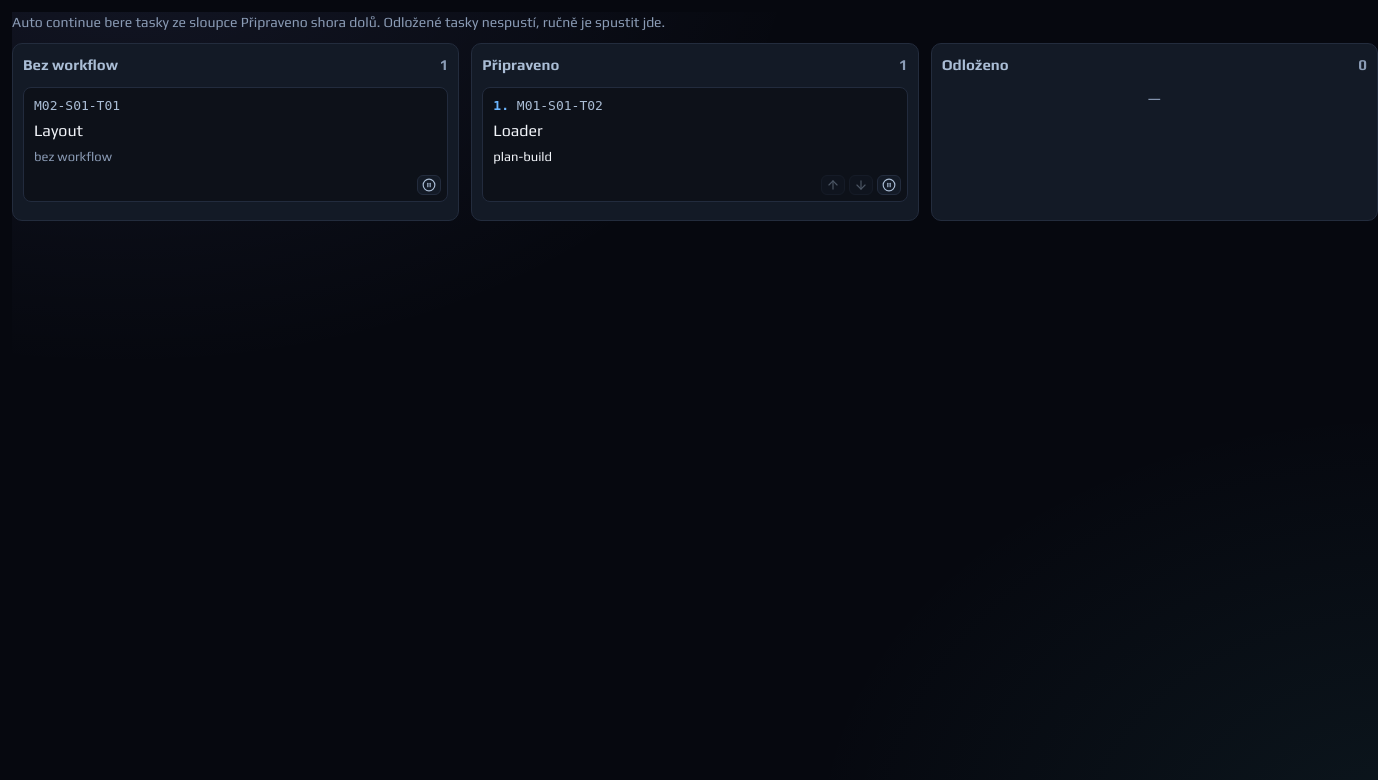
KanbanBoard › explains the Bez workflow column in a tooltip and shows only the given columns
Hover over the element with test id "tip-anchor" showing "Bez workflow" at (71, 65), box [23,54,118,76]
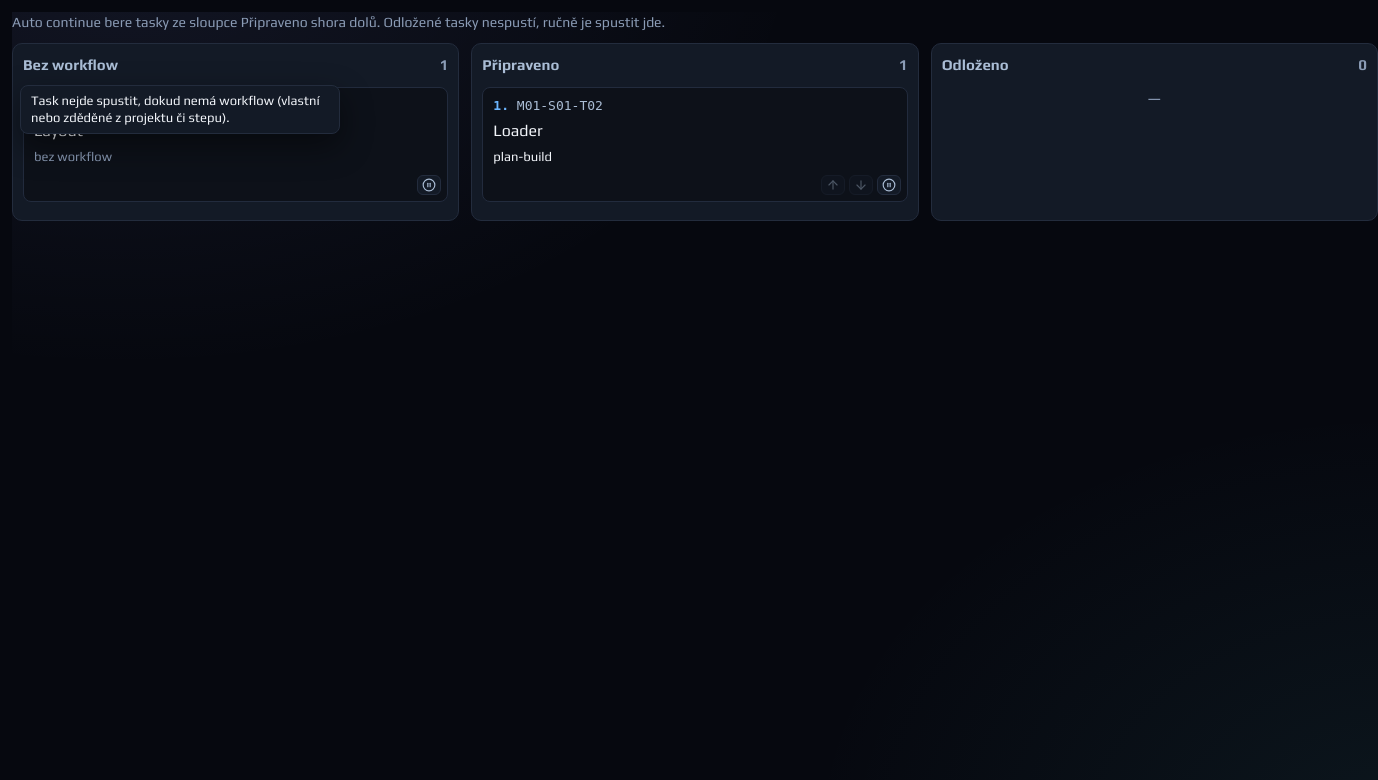
Expected: the tooltip with test id "tooltip" shows "Task nejde spustit, dokud nemá workflow (vlastní nebo zděděné z projektu či stepu).", [31,92,320,125]
